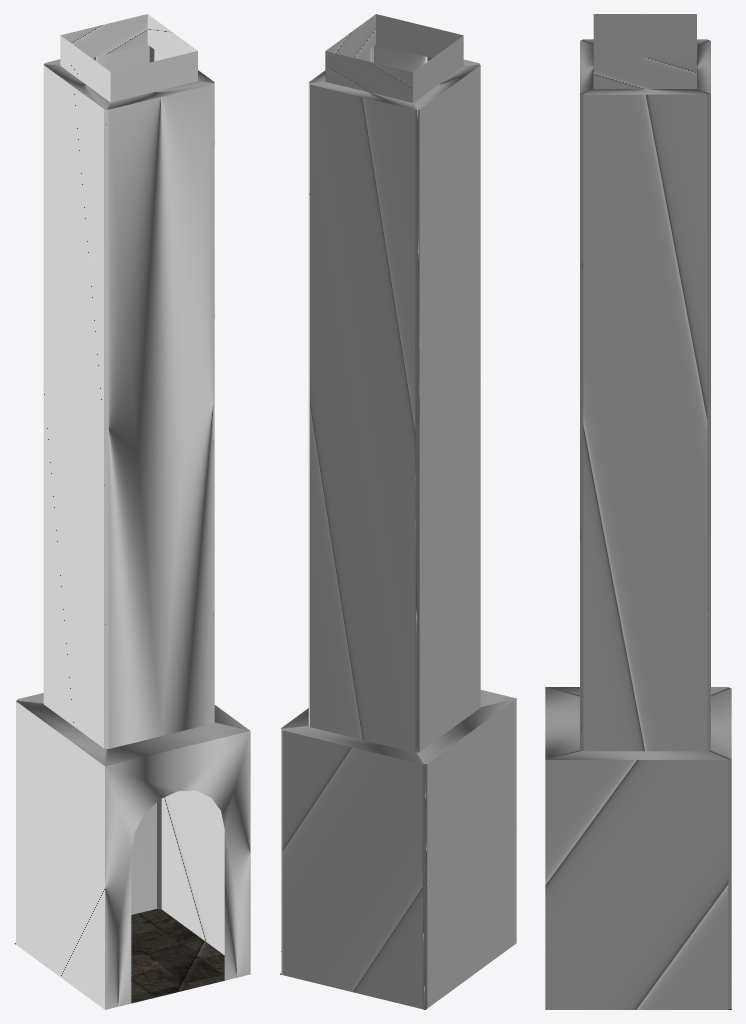
The picture shows the model from 3 angles, left to right: view 1: azimuth 30°, elevation 25°; view 2: azimuth 150°, elevation 25°; view 3: azimuth 270°, elevation 25°; orthographic projection. The views are drawn at different scales.
Visible parts, largest first — view 1: mesh0, mesh2, mesh1; view 2: mesh0, mesh2; view 3: mesh0, mesh2.
Part boxes in pixels (x1=…): mesh0: x1=43, y1=14, x2=214, y2=748; mesh2: x1=16, y1=693, x2=250, y2=1009; mesh1: x1=14, y1=909, x2=224, y2=1003; mesh0: x1=308, y1=14, x2=480, y2=752; mesh2: x1=281, y1=690, x2=516, y2=1009; mesh0: x1=580, y1=14, x2=710, y2=751; mesh2: x1=545, y1=687, x2=731, y2=1009.
Size of the model in its own units: 2.5 by 15 by 2.7.
